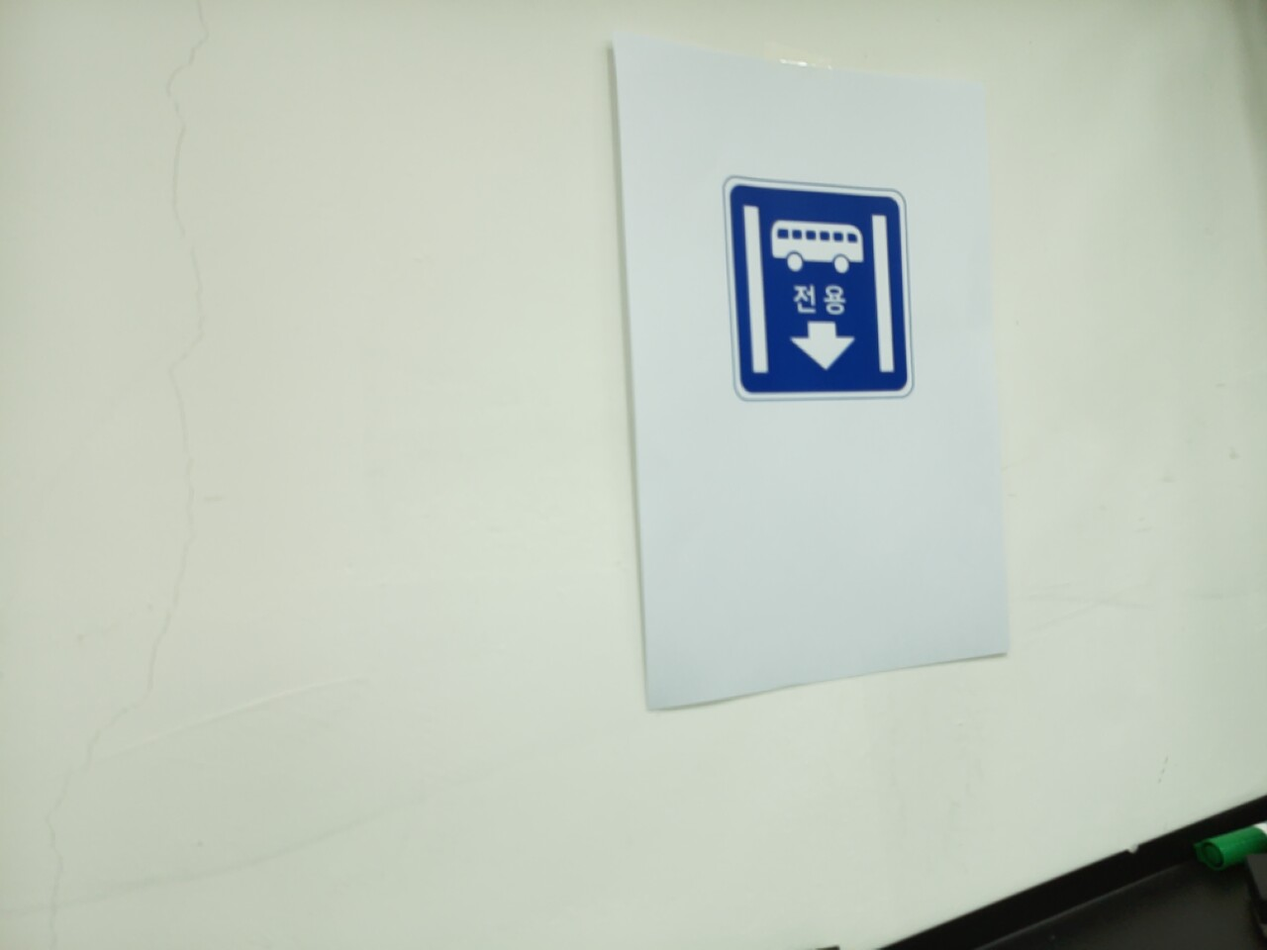bus_only_lane: (723, 176, 915, 401)
